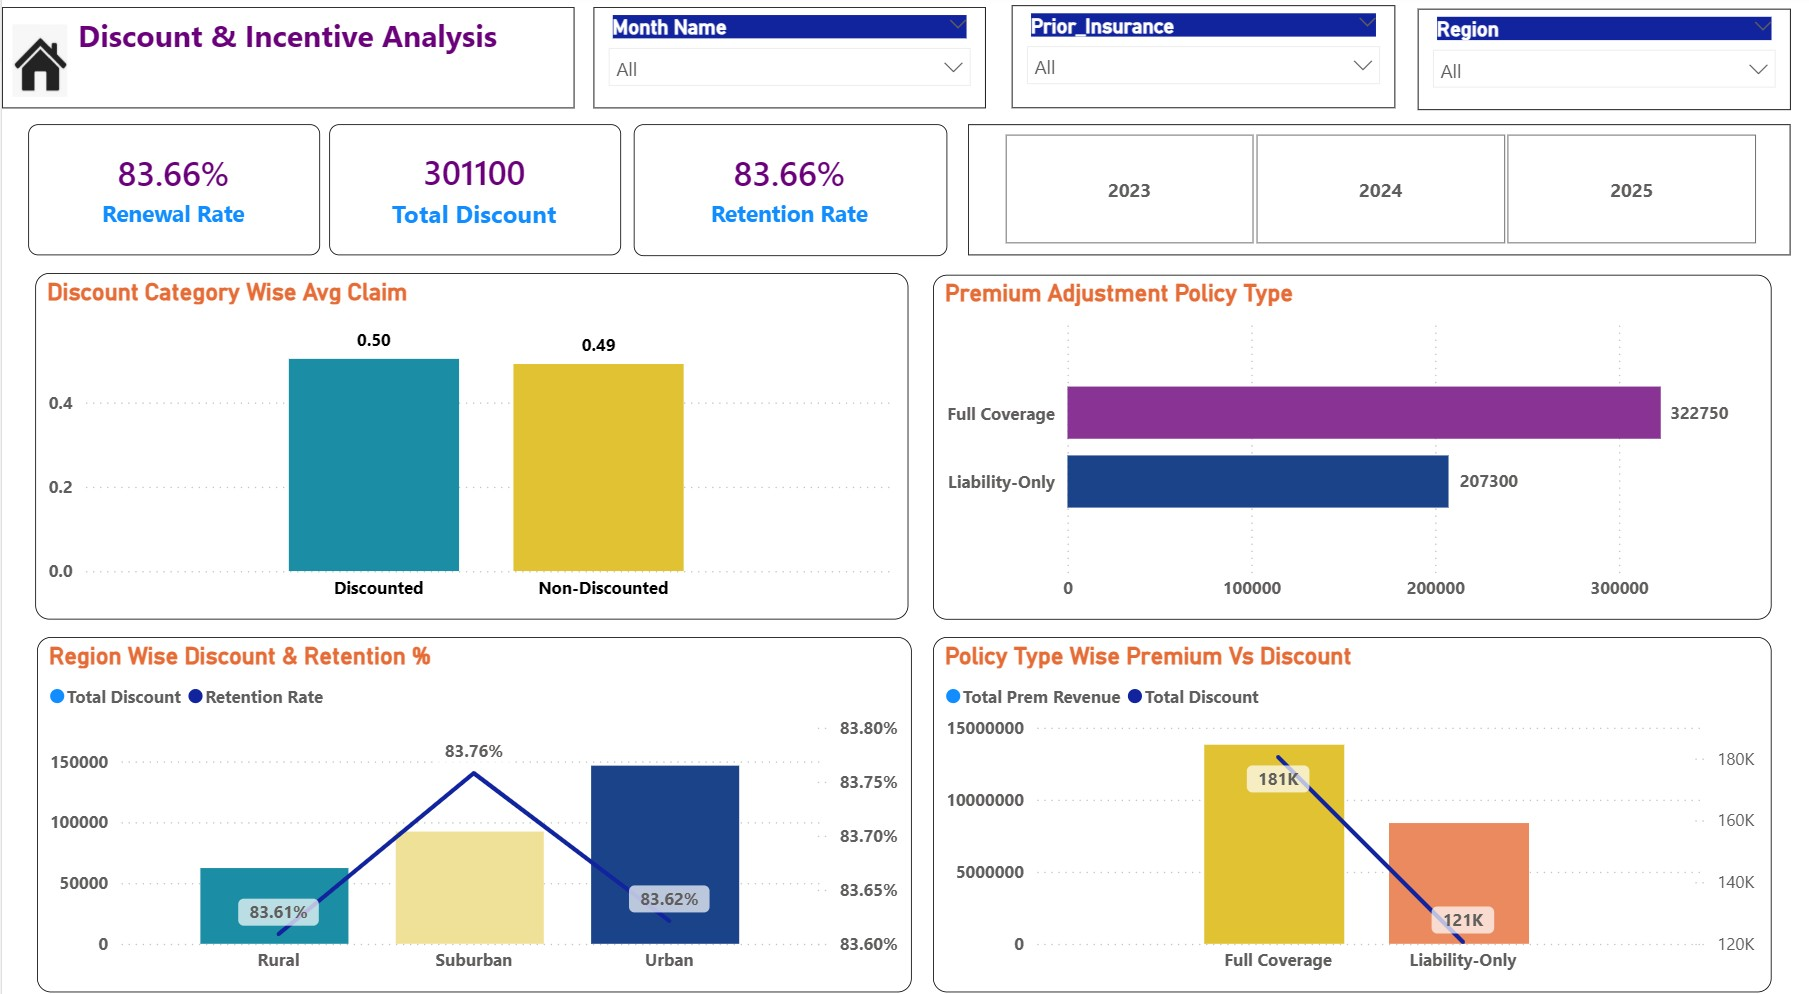

The page's visual inventory and layout, read from the dashboard file:
{"tool":"powerbi","page":{"name":"Discounts & Incentives Impact ","canvas":[1280,720],"ordinal":4},"visuals":[{"type":"textbox","box":[0,10,406.7,72.1],"z":0},{"type":"slicer","fields":{"Values":["Calendar Table.Month Name"]},"box":[420.4,10,278.6,72.1],"z":1000},{"type":"slicer","fields":{"Values":["Calendar Table.Year"]},"box":[686.6,93.3,584.6,93.3],"z":2000},{"type":"slicer","fields":{"Values":["synthetic_insurance_data.Prior_Insurance"]},"box":[717.6,8.7,272.4,73.4],"z":3000},{"type":"clusteredColumnChart","title":"Discount Category Wise Avg Claim","fields":{"Category":["synthetic_insurance_data.Discount Status"],"Y":["Measures1.Avg Claim"]},"box":[23.6,199,620.6,246.3],"z":4000},{"type":"cardVisual","fields":{"Data":["Measures1.Retention Rate"]},"box":[449.2,92.7,222.7,94],"z":5000},{"type":"cardVisual","fields":{"Data":["Measures1.Total Discount"]},"box":[232.6,93.3,207.7,93.3],"z":6000},{"type":"cardVisual","fields":{"Data":["Measures1.Renewal Rate"]},"box":[18.7,93.3,207.7,93.3],"z":7000},{"type":"slicer","fields":{"Values":["synthetic_insurance_data.Region"]},"box":[1006.2,11.2,264.9,72.1],"z":8000},{"type":"image","box":[7.7,21.9,38.6,51.5],"z":9000},{"type":"barChart","title":"Premium Adjustment Policy Type","fields":{"Y":["Sum(synthetic_insurance_data.Total Preimum Adj)"],"Category":["synthetic_insurance_data.Policy_Type"]},"box":[661.7,200.2,595.8,245],"z":10000},{"type":"lineStackedColumnComboChart","title":"Region Wise Discount & Retention %","fields":{"Category":["synthetic_insurance_data.Region"],"Y":["Measures1.Total Discount"],"Y2":["Measures1.Retention Rate"]},"box":[24.9,457.7,621.9,252.5],"z":11000},{"type":"lineClusteredColumnComboChart","title":"Policy Type Wise Premium Vs Discount","fields":{"Category":["synthetic_insurance_data.Policy_Type"],"Y":["Measures1.Total Prem Revenue"],"Y2":["Measures1.Total Discount"]},"box":[661.7,457.7,595.8,252.5],"z":11001}]}

Visuals, with their boxes in screenshot pixels (x1, y1, x2, y2), scaled from the page's 1280x720 canvas onto the 1809x994 screenshot:
textbox: [0,14,575,113]
slicer - Calendar Table.Month Name: [594,14,988,113]
slicer - Calendar Table.Year: [970,129,1797,258]
slicer - synthetic_insurance_data.Prior_Insurance: [1014,12,1399,113]
"Discount Category Wise Avg Claim" clusteredColumnChart: [33,275,910,615]
cardVisual - Measures1.Retention Rate: [635,128,950,258]
cardVisual - Measures1.Total Discount: [329,129,622,258]
cardVisual - Measures1.Renewal Rate: [26,129,320,258]
slicer - synthetic_insurance_data.Region: [1422,15,1796,115]
image: [11,30,65,101]
"Premium Adjustment Policy Type" barChart: [935,276,1777,615]
"Region Wise Discount & Retention %" lineStackedColumnComboChart: [35,632,914,980]
"Policy Type Wise Premium Vs Discount" lineClusteredColumnComboChart: [935,632,1777,980]
